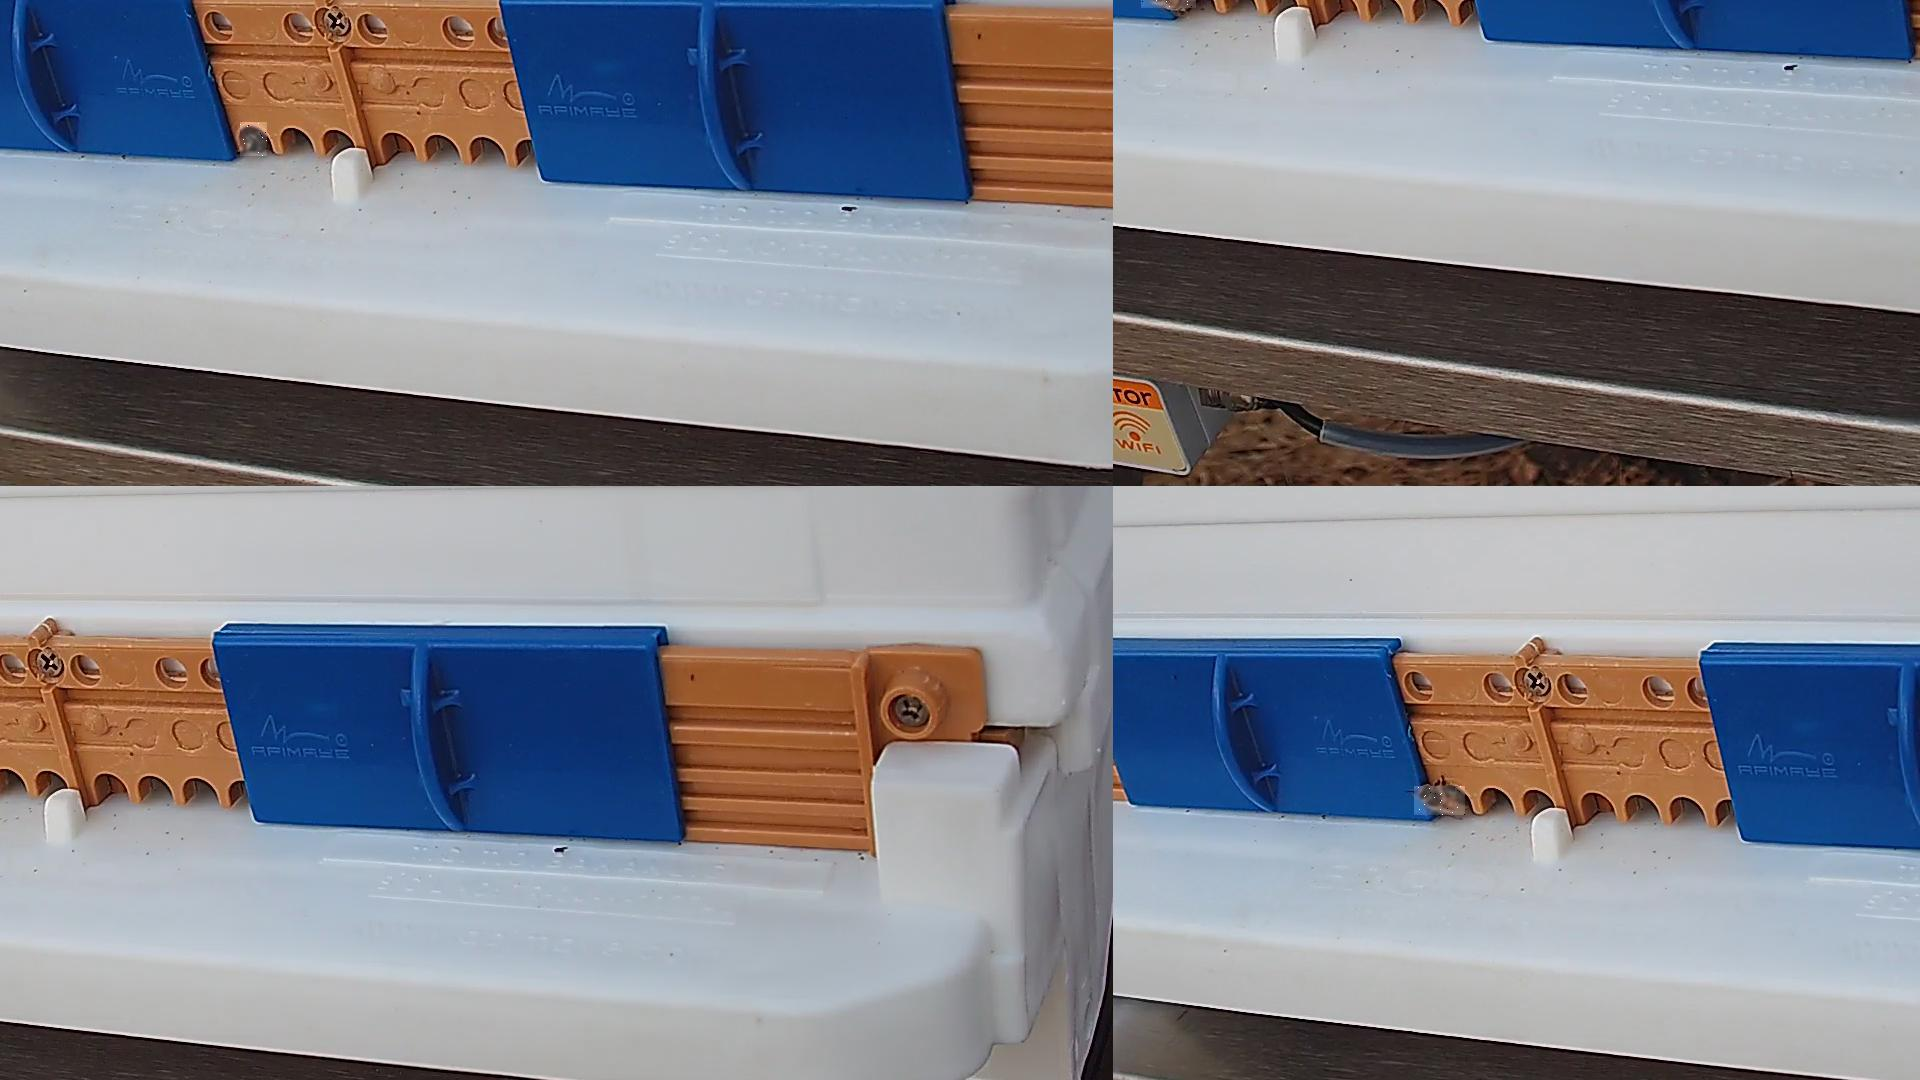bee: (1414, 786, 1466, 816), (240, 123, 268, 157), (1141, 0, 1197, 11)
